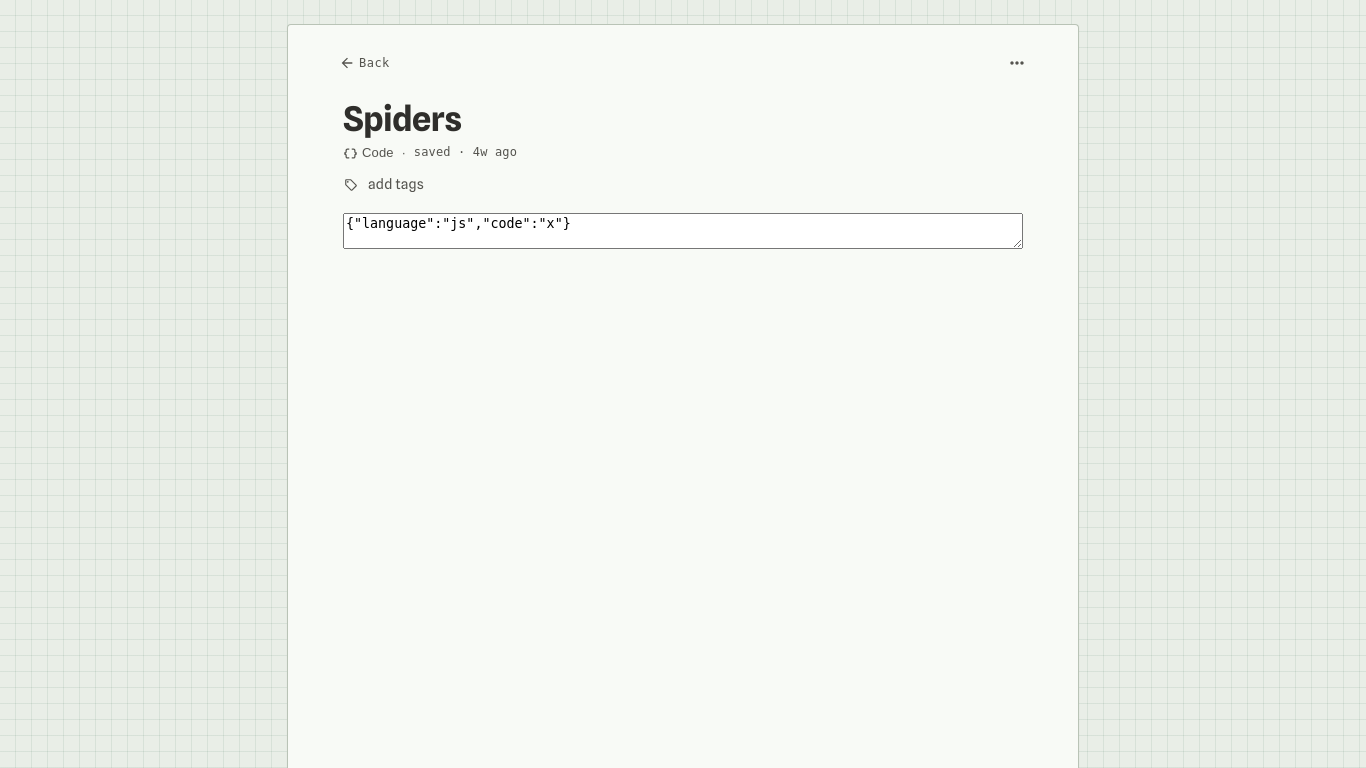
Test: Fold in, from the editor › is not offered on a code note
Click the button named "More note actions". click: (1017, 63)
box: [1001,47,1033,79]
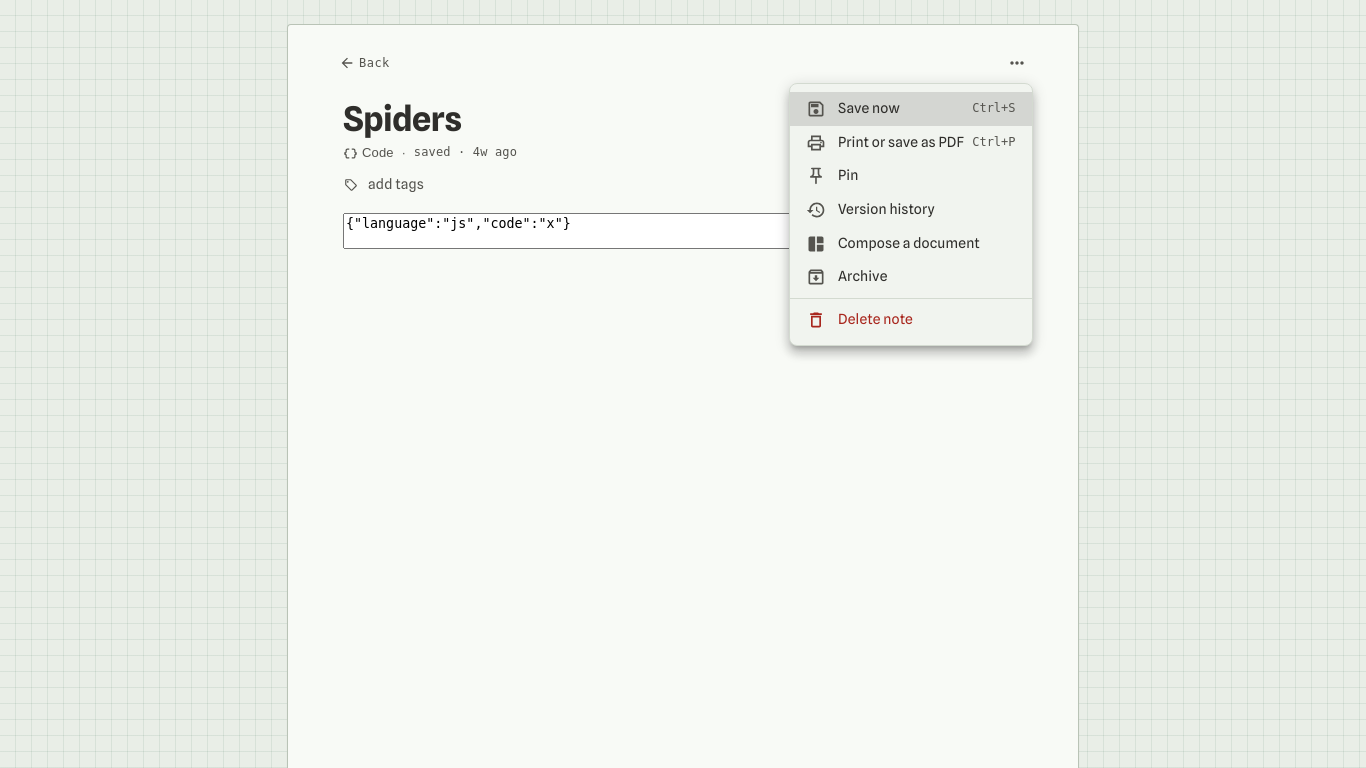
Check: the menu item "Version history" is shown, box [806,200,935,220]
